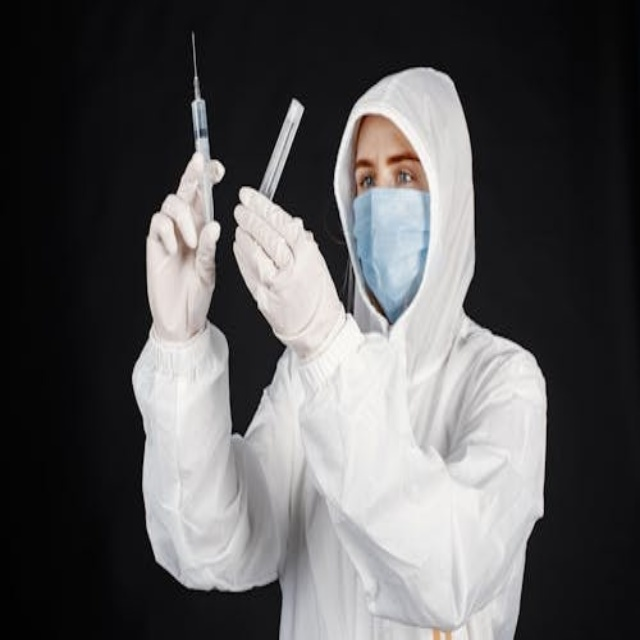Guantes: (233, 183, 348, 358), (145, 145, 224, 343)
Mascara: (351, 186, 430, 320)
Sin_gafas: (352, 142, 420, 190)
